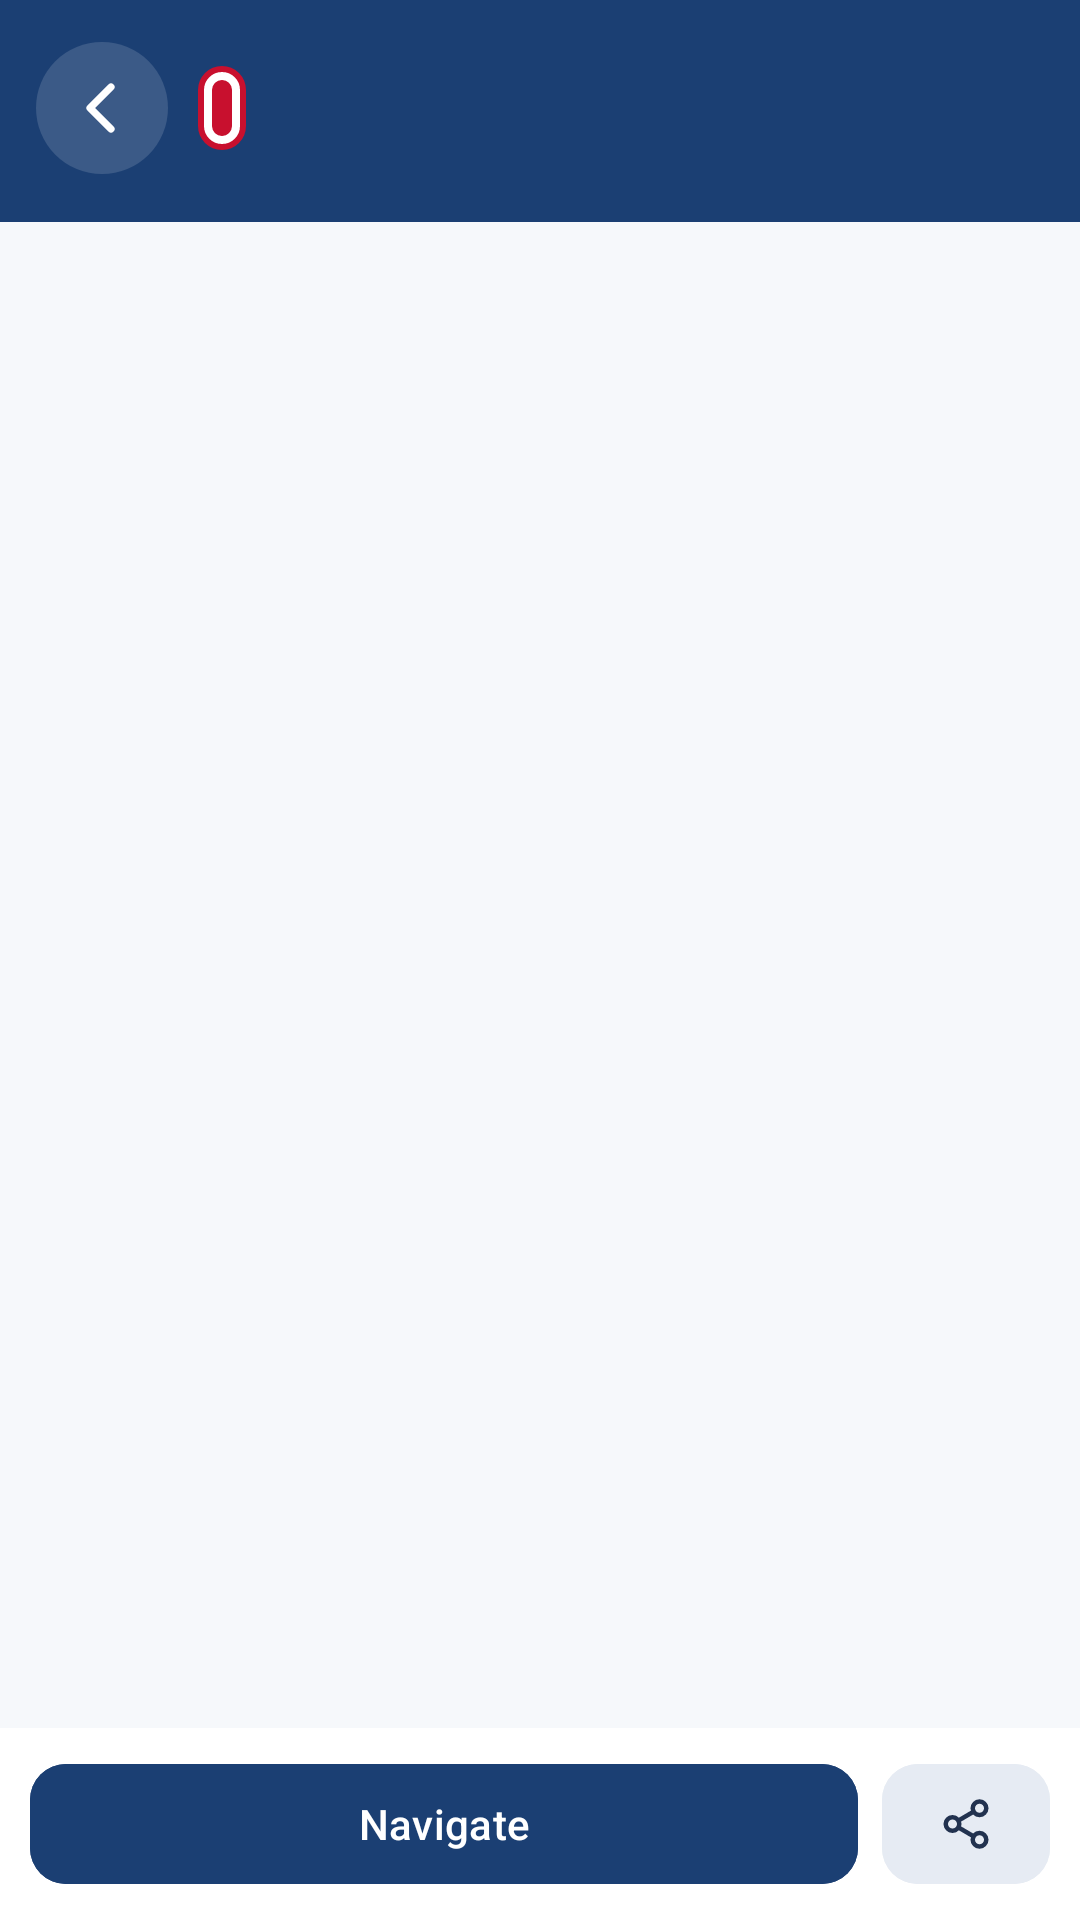

Icons on this 1080px×1920px Android screen, each with its box as (x1, y1, x2, y2):
Back: (36, 42, 168, 174)
Share: (882, 1764, 1050, 1884)
